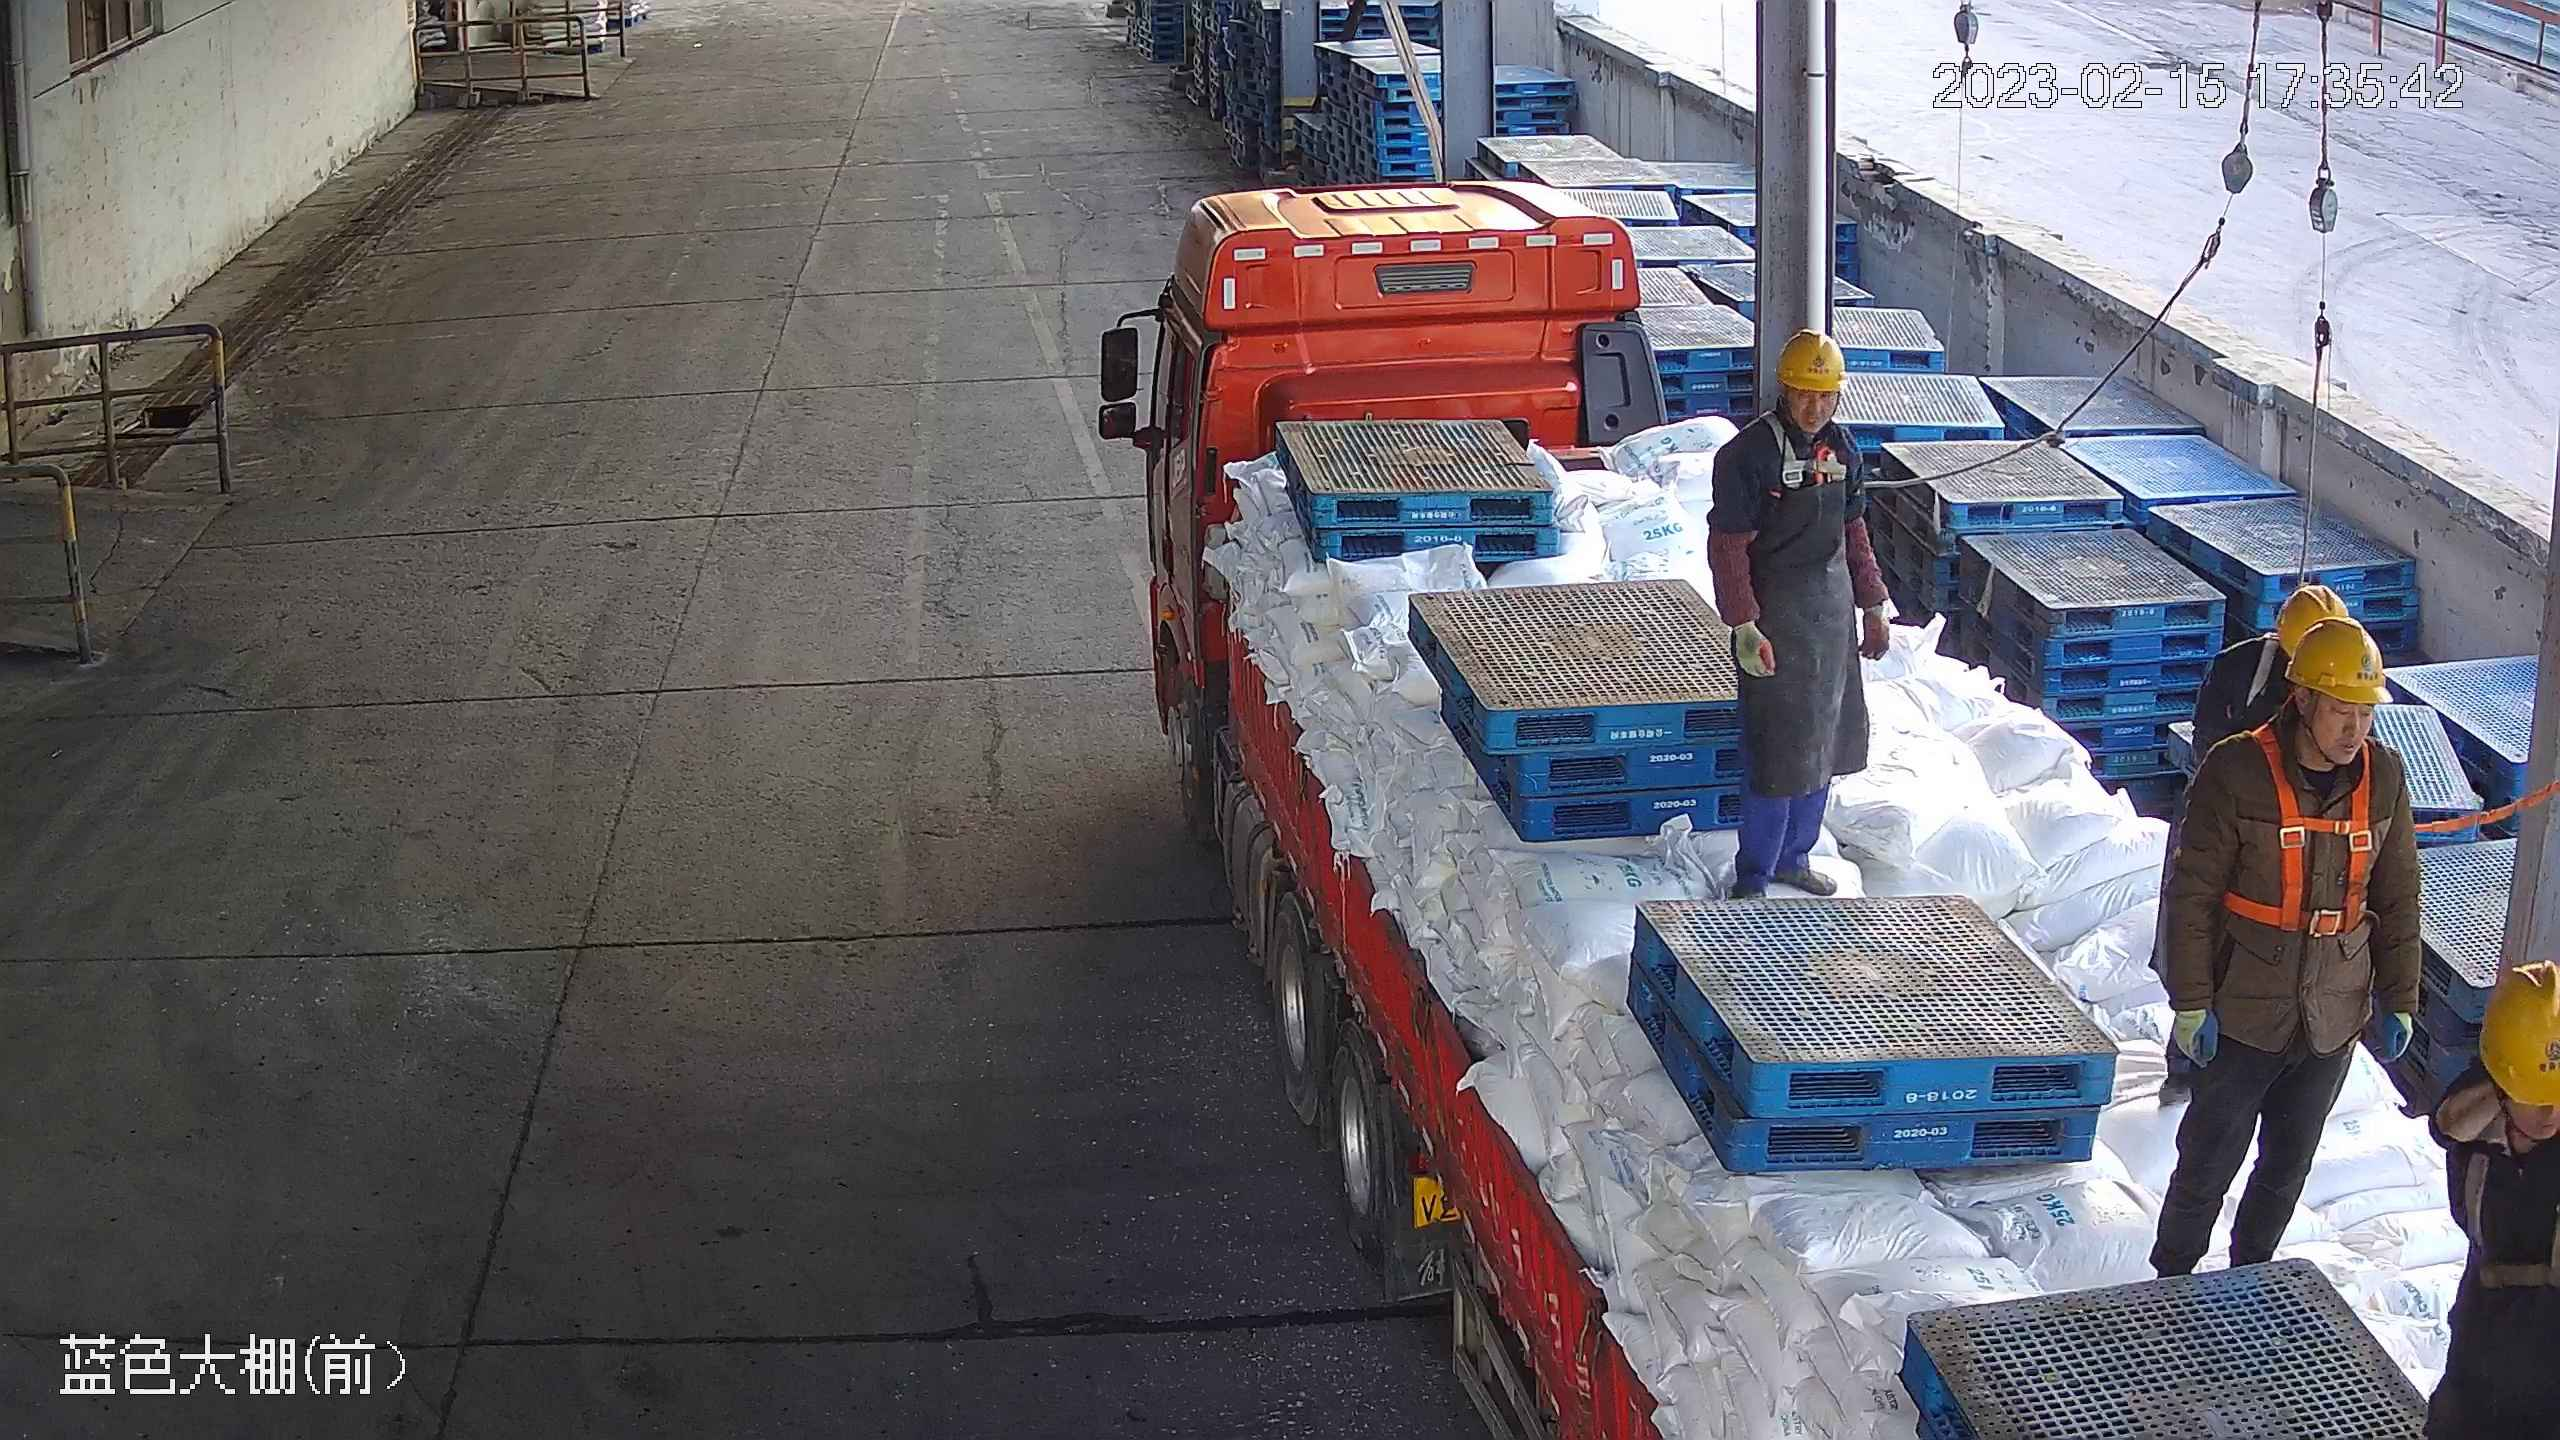belt: (2223, 725, 2383, 932), (2462, 1145, 2560, 1290), (1749, 411, 1906, 502)
head: (2153, 611, 2423, 903), (2413, 966, 2560, 1433), (1700, 331, 1892, 531)
helmet: (2480, 972, 2560, 1111), (2282, 619, 2394, 709), (2278, 589, 2357, 662), (1776, 327, 1855, 397)
people: (2154, 616, 2423, 1283), (1706, 330, 1893, 903)
truck: (1093, 176, 2560, 1440)
